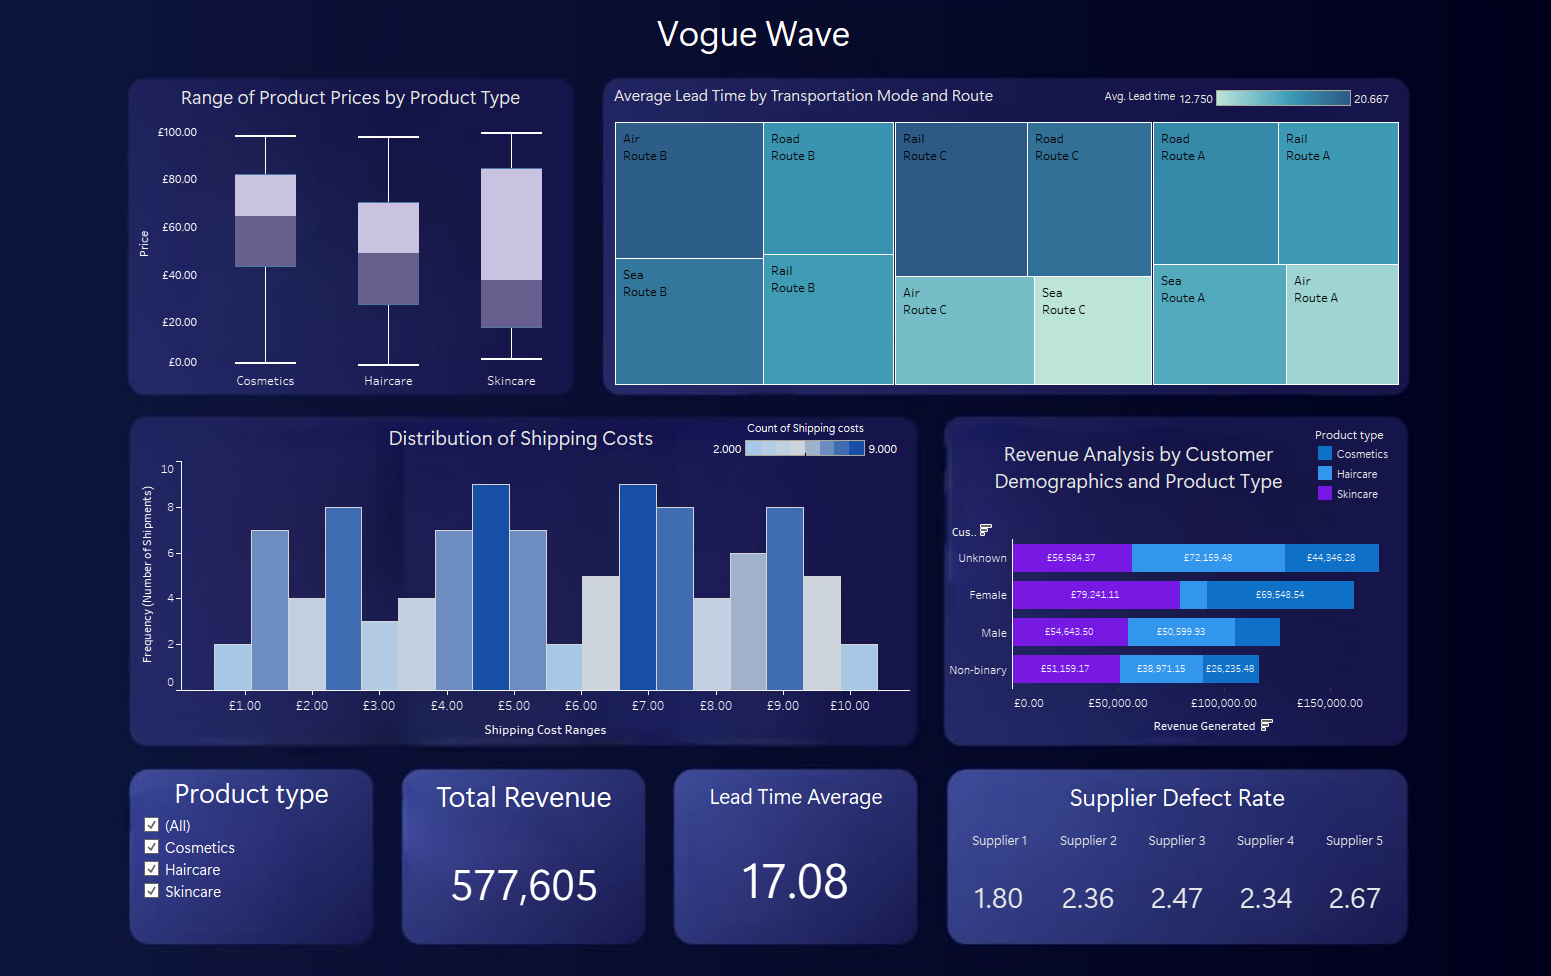

The page's visual inventory and layout, read from the dashboard file:
{"tool":"tableau","page":{"name":"Dashboard 1","canvas":[1580,800],"ordinal":0},"visuals":[{"type":"text","box":[0,0,1582,92]},{"type":"filter","title":"Revenue Analysis by Customer Demographics and Product Type","param":"[federated.0shsvzu1927bef1bu7tni18l4mtr].[none:Product type:nk]","box":[1434,81,145,128]},{"type":"legend","title":"Revenue Analysis by Customer Demographics and Product Type","param":"[federated.0shsvzu1927bef1bu7tni18l4mtr].[none:Product type:nk]","box":[1285,84,137,88]},{"type":"worksheet","title":"Lead Time Average","mark":"Automatic","box":[1035,88,234,89]},{"type":"worksheet","title":"Supplier Defect Rate","mark":"Automatic","cols":["Supplier name"],"box":[10.8,91.7,598.7,89.6]},{"type":"worksheet","title":"Total Revenue","mark":"Automatic","box":[611,92,189,89]},{"type":"worksheet","title":"Distribution of Shipping Costs","mark":"Automatic","rows":["Shipping costs"],"cols":["Shipping costs (bin)"],"box":[336,194,496,348]},{"type":"worksheet","title":"Range of Product Prices by Product Type","mark":"Circle","rows":["Price"],"cols":["Product type"],"box":[12,195,310,586]},{"type":"worksheet","title":"Revenue Analysis by Customer Demographics and Product Type","mark":"Bar","rows":["Customer demographics"],"cols":["Revenue generated"],"box":[837,203,724,346]},{"type":"legend","title":"Average Lead Time by Transportation Mode and Route","param":"[federated.0shsvzu1927bef1bu7tni18l4mtr].[avg:Lead time:qk]","box":[1346,551,217,51]},{"type":"worksheet","title":"Average Lead Time by Transportation Mode and Route","mark":"Square","box":[342,553,1220,216]}]}

Visuals, with their boxes on the page's 1580x800 design canvas (x1, y1, x2, y2). These are canvas units, not pixel positions in the 1551x976 screenshot, which may show the page scaled, cropped or inside an application window:
text: {"x1": 0, "y1": 0, "x2": 1582, "y2": 92}
"Revenue Analysis by Customer Demographics and Product Type" filter: {"x1": 1434, "y1": 81, "x2": 1579, "y2": 209}
"Revenue Analysis by Customer Demographics and Product Type" legend: {"x1": 1285, "y1": 84, "x2": 1422, "y2": 172}
"Lead Time Average" worksheet: {"x1": 1035, "y1": 88, "x2": 1269, "y2": 177}
"Supplier Defect Rate" worksheet: {"x1": 11, "y1": 92, "x2": 610, "y2": 181}
"Total Revenue" worksheet: {"x1": 611, "y1": 92, "x2": 800, "y2": 181}
"Distribution of Shipping Costs" worksheet: {"x1": 336, "y1": 194, "x2": 832, "y2": 542}
"Range of Product Prices by Product Type" worksheet (Circle marks): {"x1": 12, "y1": 195, "x2": 322, "y2": 781}
"Revenue Analysis by Customer Demographics and Product Type" worksheet (Bar marks): {"x1": 837, "y1": 203, "x2": 1561, "y2": 549}
"Average Lead Time by Transportation Mode and Route" legend: {"x1": 1346, "y1": 551, "x2": 1563, "y2": 602}
"Average Lead Time by Transportation Mode and Route" worksheet (Square marks): {"x1": 342, "y1": 553, "x2": 1562, "y2": 769}
